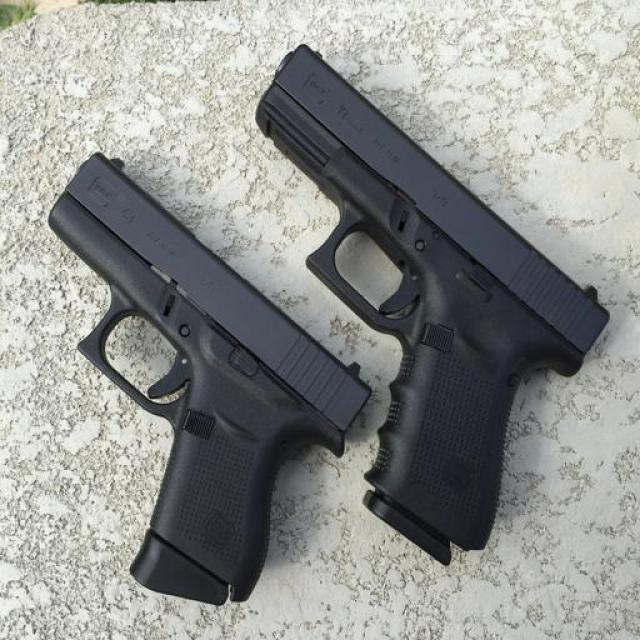pistol: (250, 35, 611, 567), (43, 149, 369, 604)
